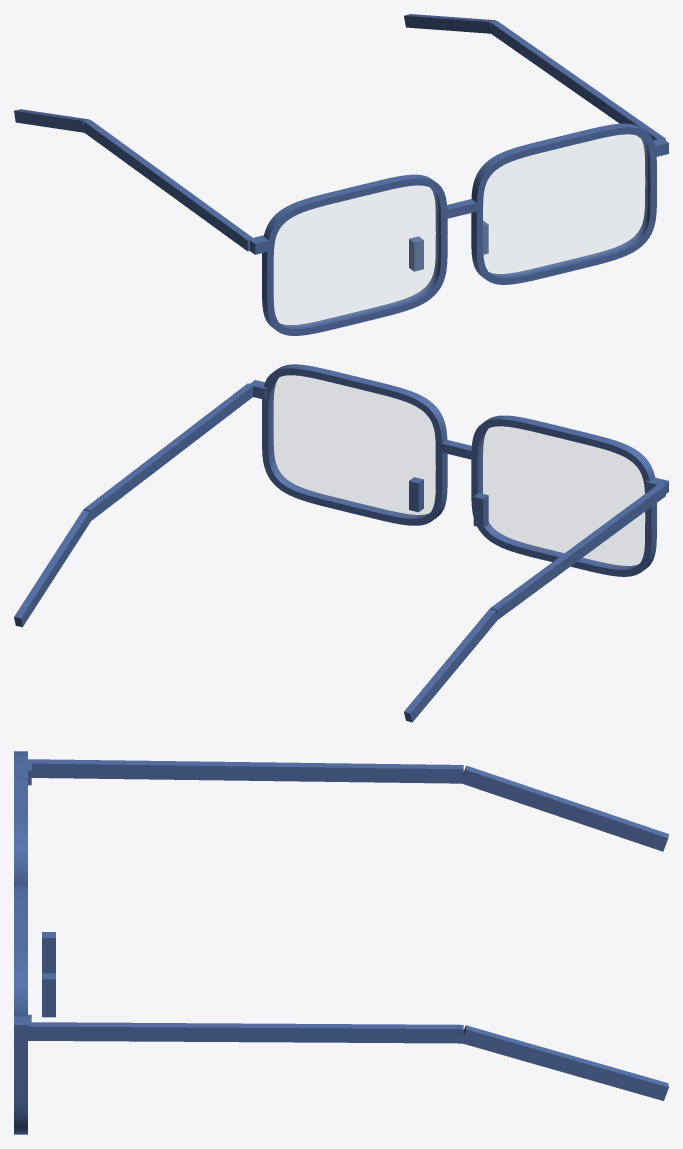
Rendered from frame-05.glb.
3 views of the same model, one above another, from view 1: azimuth 30°, elevation 25°; view 2: azimuth 150°, elevation 25°; view 3: azimuth 270°, elevation 25° (orthographic). The views are drawn at different scales.
Parts seen in each view (by area): view 1: Glasses; view 2: Glasses; view 3: Glasses.
Boxes of the visible parts, left/top/right/bottom form: Glasses: left=14, top=14, right=668, bottom=335; Glasses: left=14, top=364, right=668, bottom=722; Glasses: left=14, top=751, right=668, bottom=1134.
Bounding box in the file's own units: 0.14 × 0.0425 × 0.145.
